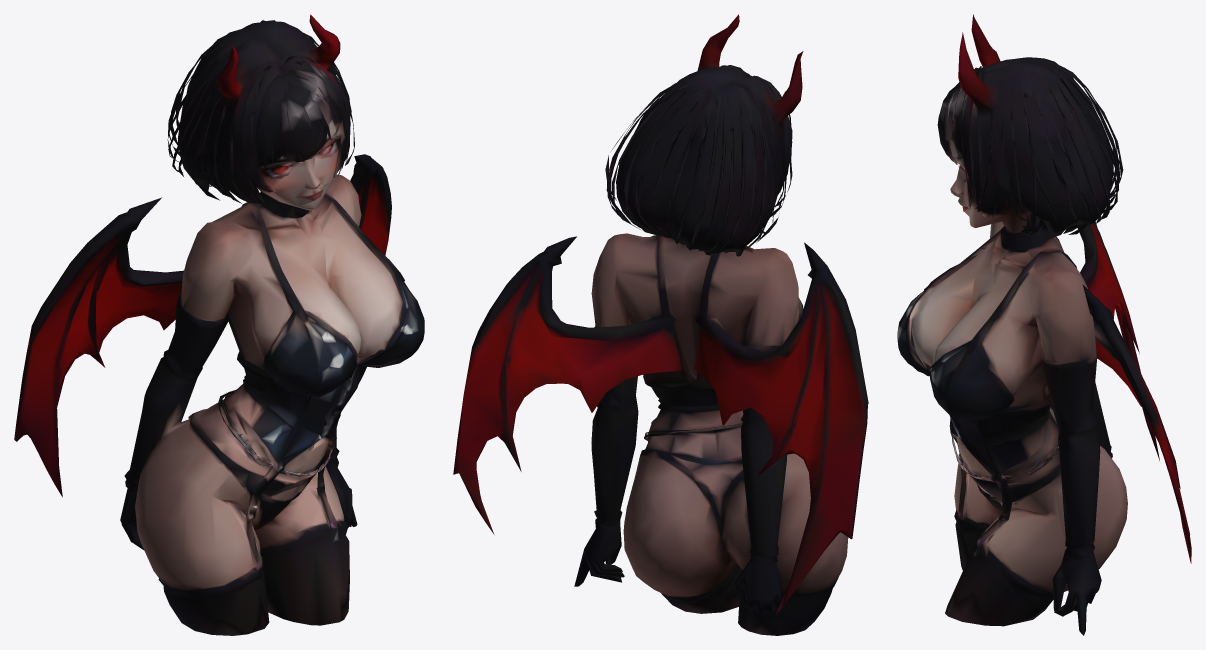
The model's file is 01a1a2e1-3508-7bef-8d07-44bc49d947c4.glb.
The picture shows the model from 3 angles, left to right: view 1: azimuth 30°, elevation 25°; view 2: azimuth 150°, elevation 25°; view 3: azimuth 270°, elevation 25°; orthographic projection. The views are drawn at different scales.
Visible parts, largest first — view 1: node_0; view 2: node_0; view 3: node_0.
Boxes of the visible parts, box(x1,y1,x2,y2) form: node_0: box(14, 14, 424, 635); node_0: box(453, 14, 868, 635); node_0: box(897, 14, 1191, 635).
Size of the model in its own units: 0.7663 by 1.14 by 0.5308.
